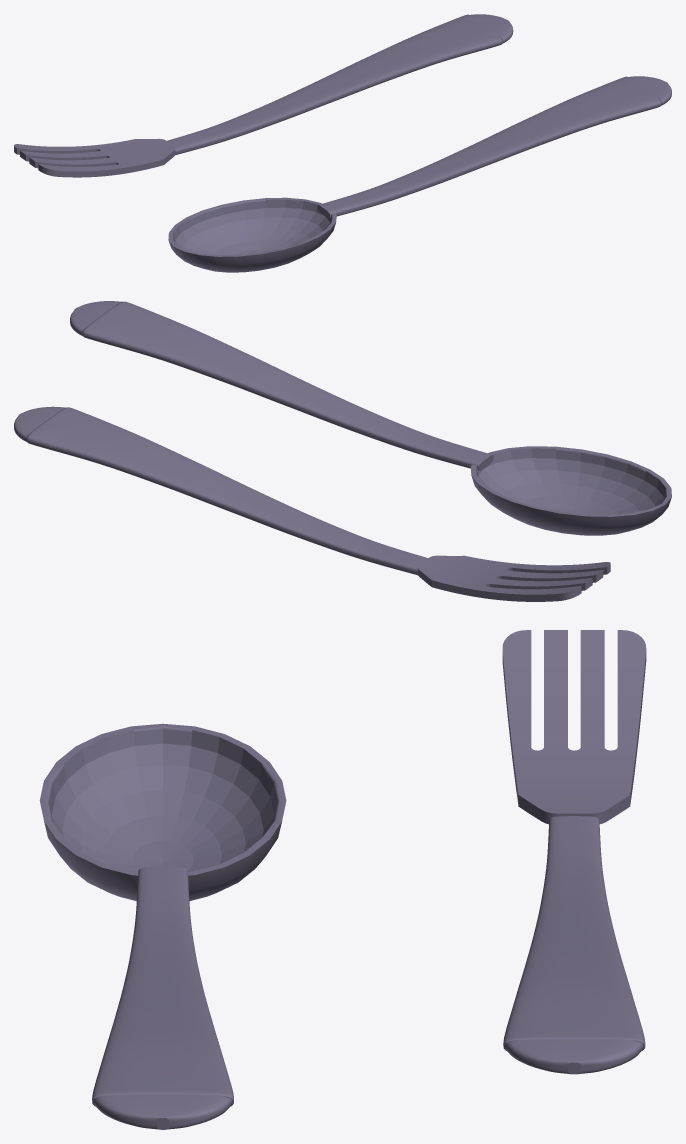
File: start_cutlery.glb
3 renders of one model, top to bottom at view 1: azimuth 30°, elevation 25°; view 2: azimuth 150°, elevation 25°; view 3: azimuth 270°, elevation 25°, orthographic. The views are drawn at different scales.
Parts seen in each view (by area): view 1: bowl; view 2: bowl; view 3: bowl.
Part boxes in pixels (x1,y1,x2,y2): bowl: (14, 14, 671, 272); bowl: (14, 301, 671, 601); bowl: (39, 630, 646, 1129).
Size of the model in its own units: 0.211 by 0.0299 by 0.1032.
